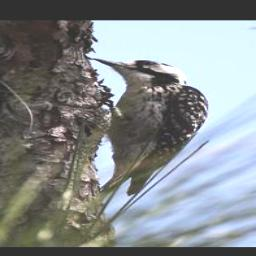Woodpecker: (78, 50, 221, 202)
